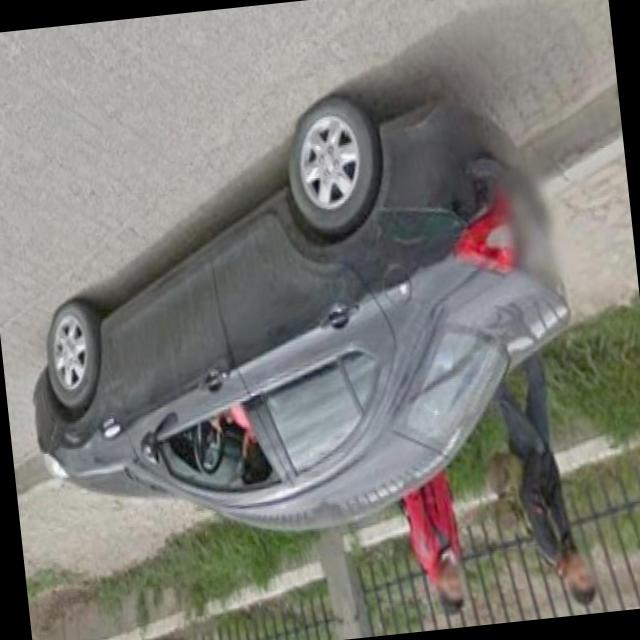car: (5, 72, 592, 569)
